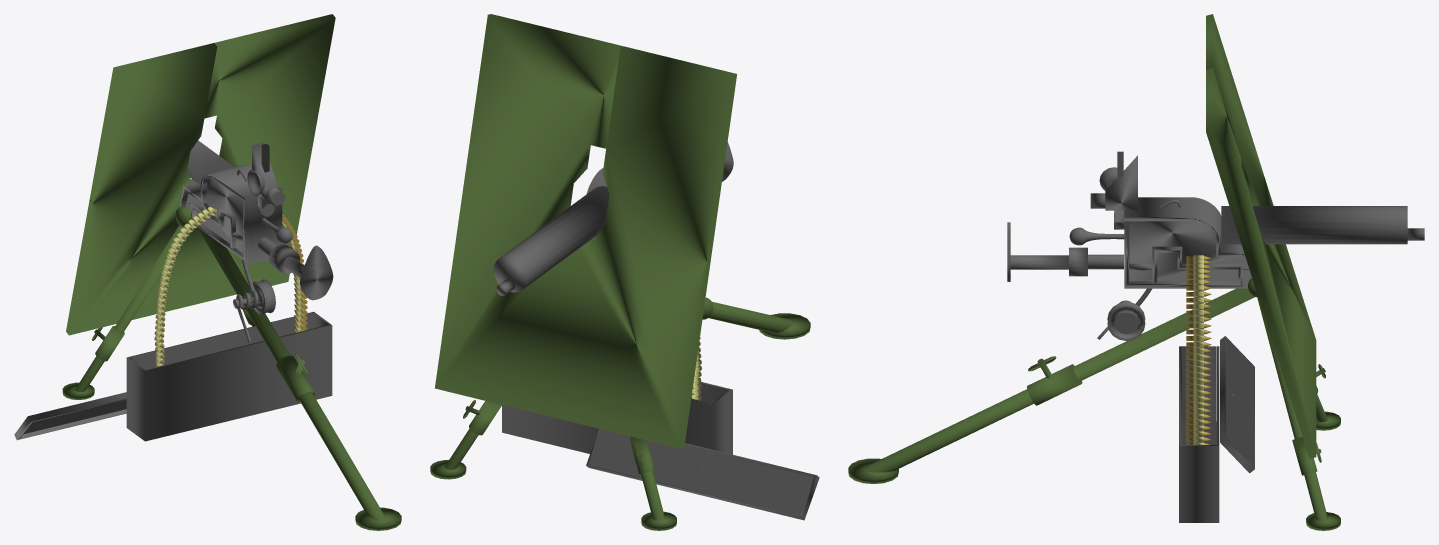
File: skoda.obj
3 views of the same model, side by side, from view 1: azimuth 30°, elevation 25°; view 2: azimuth 150°, elevation 25°; view 3: azimuth 270°, elevation 25° (orthographic). The views are drawn at different scales.
Parts seen in each view (by area): view 1: sk_lafet, box, Plane02, cover, koleso; view 2: sk_lafet, cover, Plane02, box; view 3: sk_lafet, Plane02, box, cover, koleso.
Part boxes in pixels (<box>): sk_lafet: <box>62,14,401,530</box>; box: <box>126,311,332,441</box>; Plane02: <box>179,140,333,300</box>; cover: <box>14,392,126,440</box>; koleso: <box>233,259,275,342</box>; sk_lafet: <box>430,14,810,530</box>; cover: <box>586,428,819,520</box>; Plane02: <box>493,142,733,295</box>; box: <box>502,382,732,454</box>; sk_lafet: <box>848,14,1340,530</box>; Plane02: <box>1007,151,1424,288</box>; box: <box>1179,346,1219,522</box>; cover: <box>1220,336,1254,473</box>; koleso: <box>1097,288,1151,340</box>.
Size of what is drawn, in the model's own units: 0.7985 by 0.9358 by 1.22.
